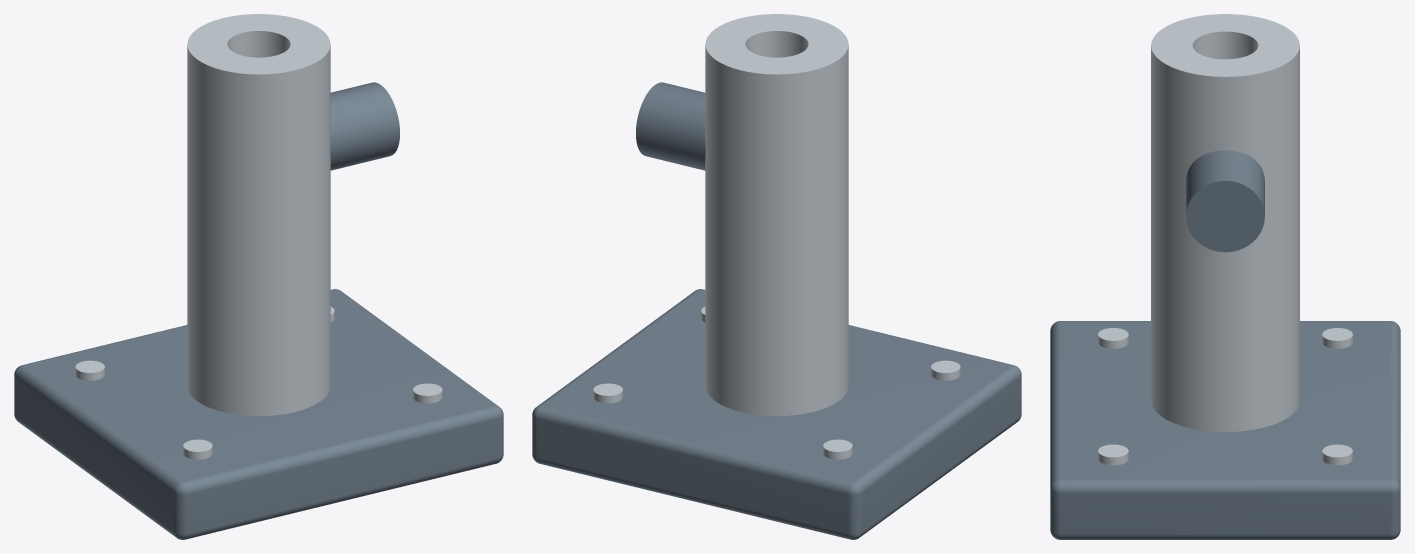
The model's file is POST2.glb.
The picture shows the model from 3 angles, left to right: view 1: azimuth 30°, elevation 25°; view 2: azimuth 150°, elevation 25°; view 3: azimuth 270°, elevation 25°; orthographic projection. The views are drawn at different scales.
Parts seen in each view (by area): view 1: POST2/0000_panel, POST2/0001_post_holder, POST2/0002_locking_knob; view 2: POST2/0000_panel, POST2/0001_post_holder, POST2/0002_locking_knob; view 3: POST2/0000_panel, POST2/0001_post_holder, POST2/0002_locking_knob, POST2/0005_fastener, POST2/0006_fastener, POST2/0003_fastener, POST2/0004_fastener.
Part boxes in pixels (bbox=[...]): POST2/0000_panel: bbox=[14, 289, 503, 539]; POST2/0001_post_holder: bbox=[187, 14, 330, 415]; POST2/0002_locking_knob: bbox=[330, 82, 399, 170]; POST2/0000_panel: bbox=[532, 289, 1021, 539]; POST2/0001_post_holder: bbox=[705, 14, 848, 415]; POST2/0002_locking_knob: bbox=[636, 82, 705, 170]; POST2/0000_panel: bbox=[1050, 321, 1400, 539]; POST2/0001_post_holder: bbox=[1151, 14, 1299, 431]; POST2/0002_locking_knob: bbox=[1186, 150, 1264, 252]; POST2/0005_fastener: bbox=[1098, 444, 1128, 465]; POST2/0006_fastener: bbox=[1322, 444, 1352, 465]; POST2/0003_fastener: bbox=[1098, 328, 1128, 348]; POST2/0004_fastener: bbox=[1322, 328, 1352, 348].
Size of the model in its own units: 0.09 by 0.1045 by 0.08.
